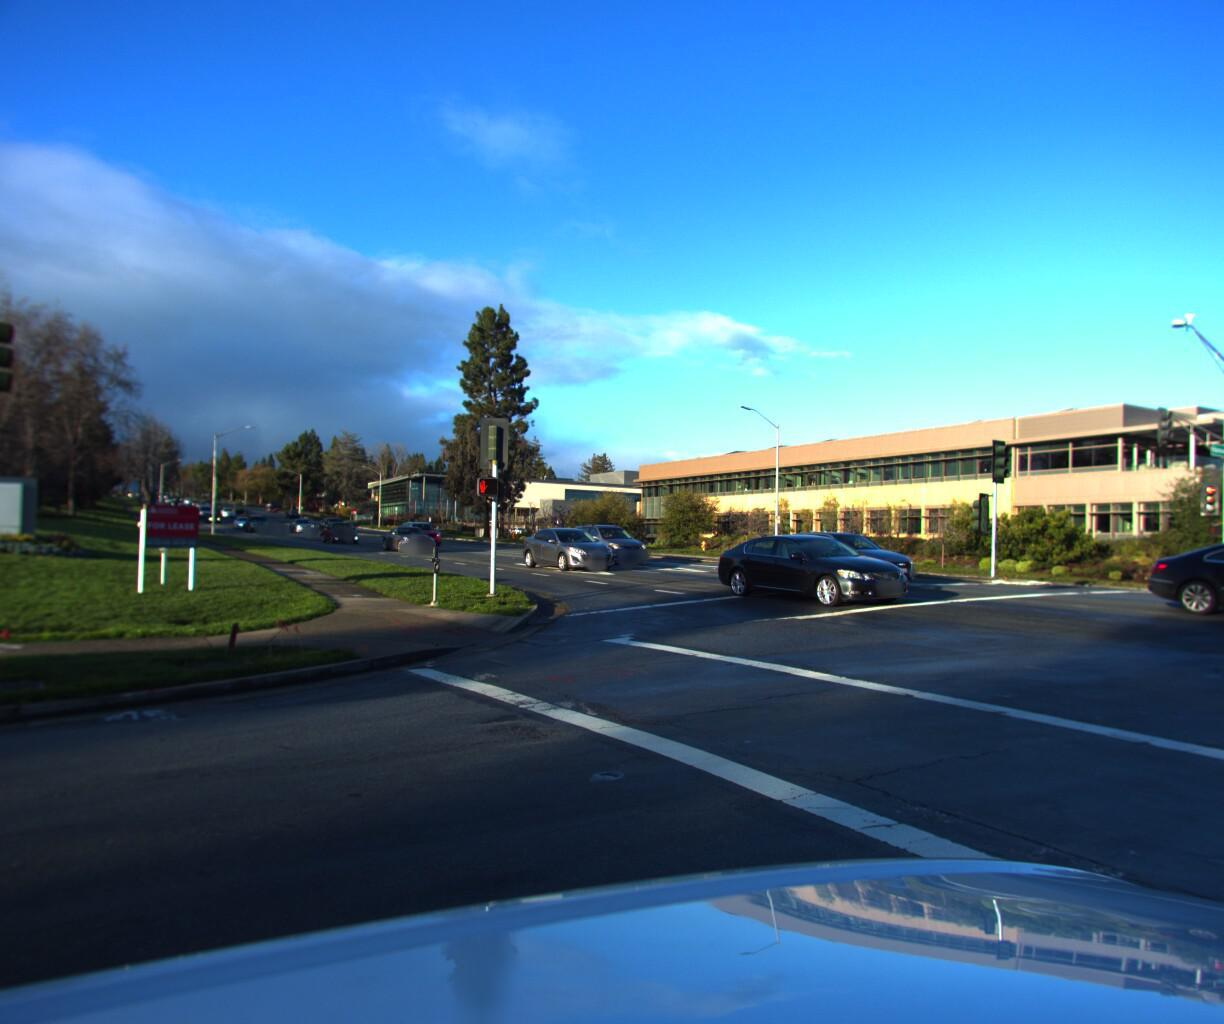car: (709, 533, 919, 611), (1133, 532, 1224, 634), (772, 527, 925, 584), (515, 524, 625, 570), (563, 521, 655, 563), (384, 521, 443, 551), (403, 519, 448, 546), (321, 517, 362, 540), (291, 518, 320, 534)
